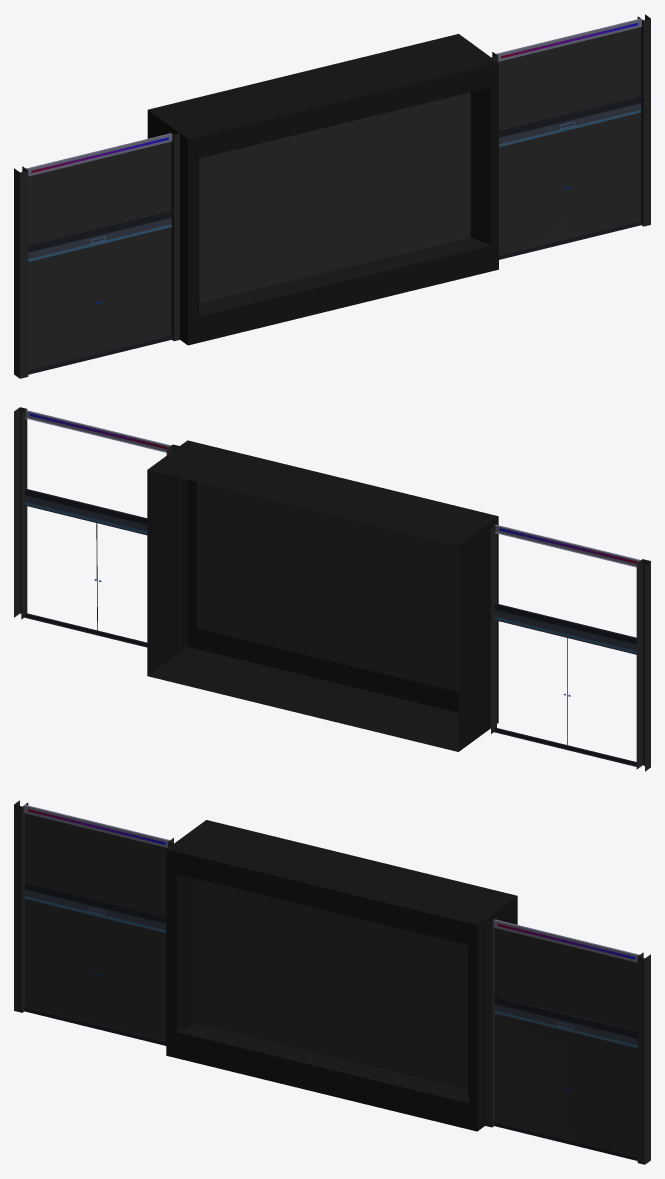
The model's file is Wall_Door_16x5x2_001_L1.fbx.
3 views of the same model, one above another, from view 1: azimuth 30°, elevation 25°; view 2: azimuth 150°, elevation 25°; view 3: azimuth 330°, elevation 25° (orthographic).
Visible parts, largest first — view 1: Wall_Door_16x5x2_001_L1; view 2: Wall_Door_16x5x2_001_L1; view 3: Wall_Door_16x5x2_001_L1.
Part boxes in pixels (bbox=[...]): Wall_Door_16x5x2_001_L1: bbox=[14, 14, 650, 378]; Wall_Door_16x5x2_001_L1: bbox=[14, 407, 650, 771]; Wall_Door_16x5x2_001_L1: bbox=[14, 800, 650, 1164].
Size of the model in its own units: 16 by 5 by 1.77.
